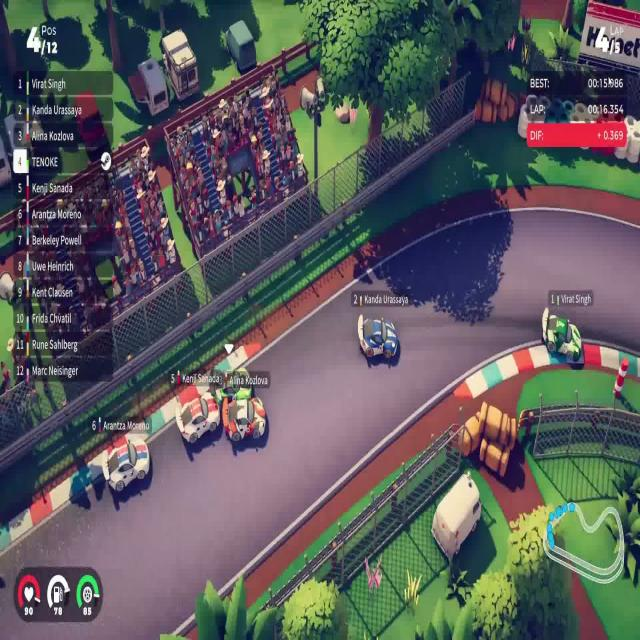car: (101, 433, 150, 494), (174, 385, 220, 445), (541, 306, 582, 363), (221, 394, 267, 444), (357, 313, 398, 361)
